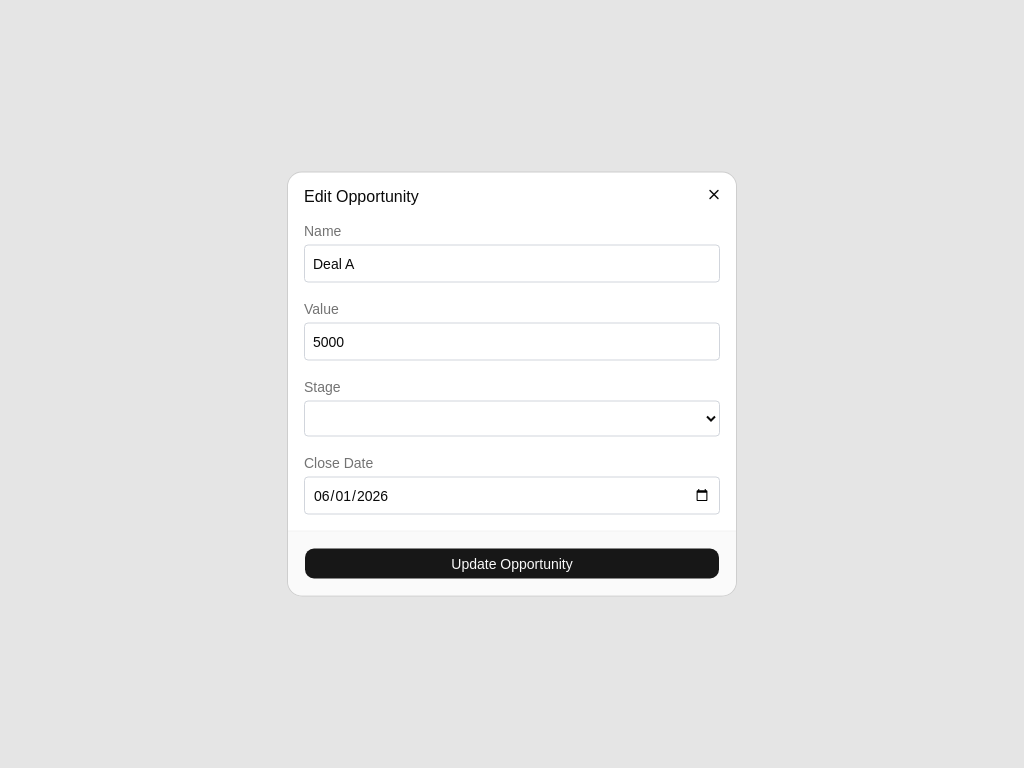
OppEditDialog › shows a fallback error message when the error has no response data
This screenshot has width=1024, height=768.
Click the button "Update Opportunity" at (512, 564), box [304,548,720,580]
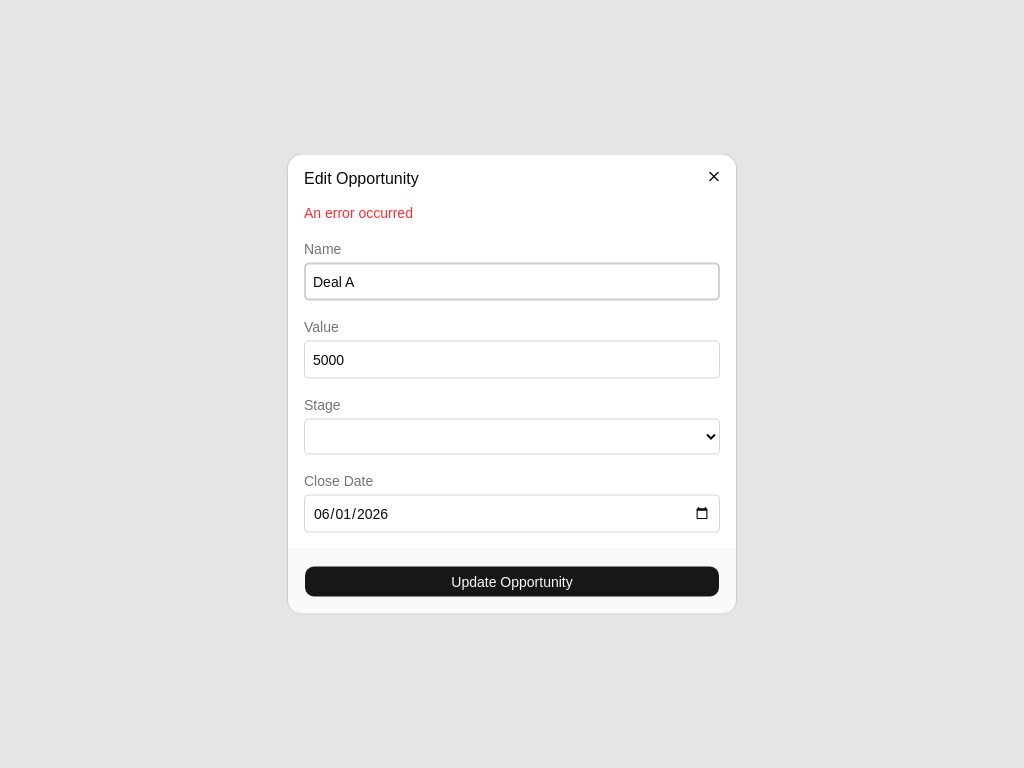
expect the text "An error occurred" is shown: met, box [304,204,413,220]
